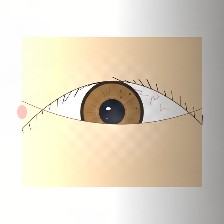pinguecula_lesion: (34, 95, 67, 122)
